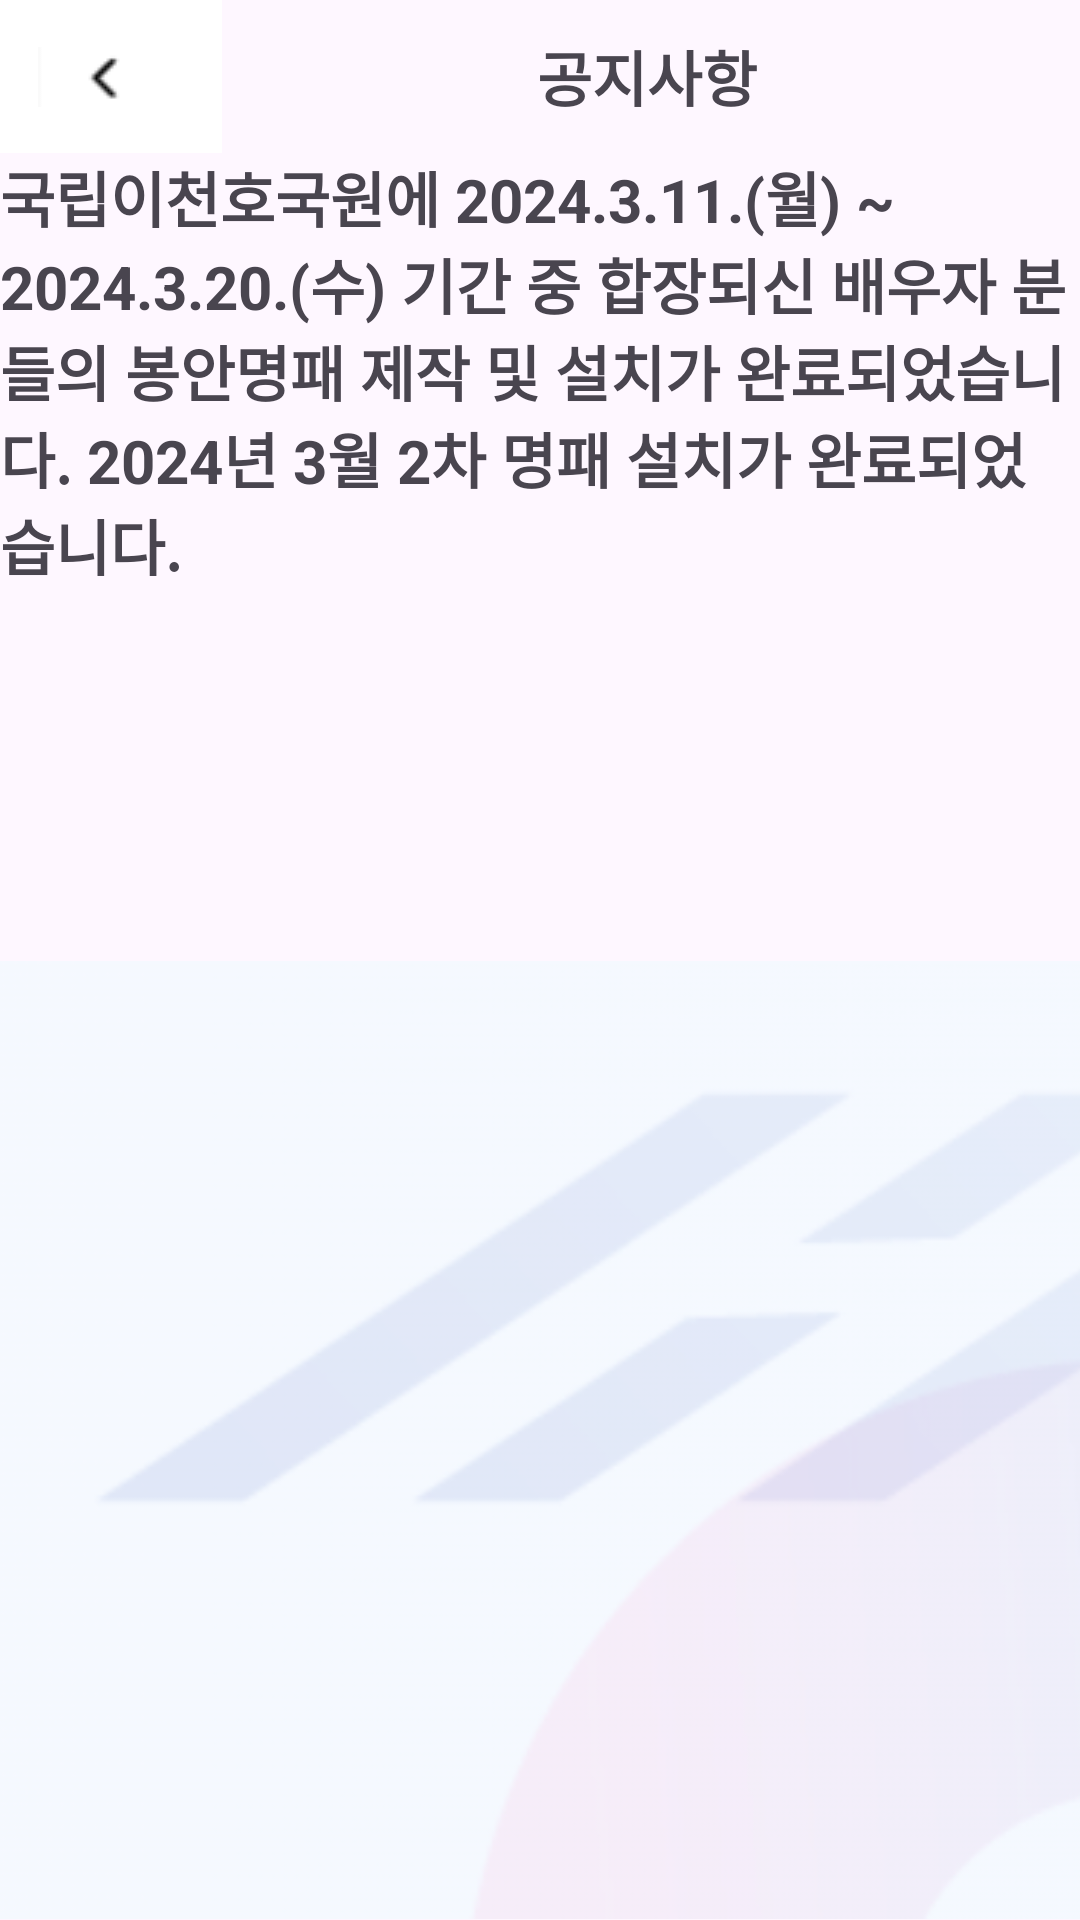

Named icons in this screenshot (1080*1920) and their centers, point (x, y):
back: point (104, 78)
